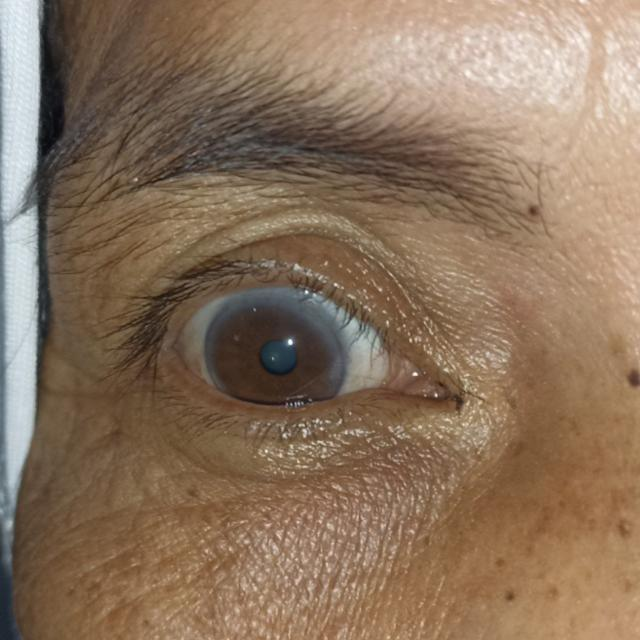Cataract: (208, 293, 348, 421)
